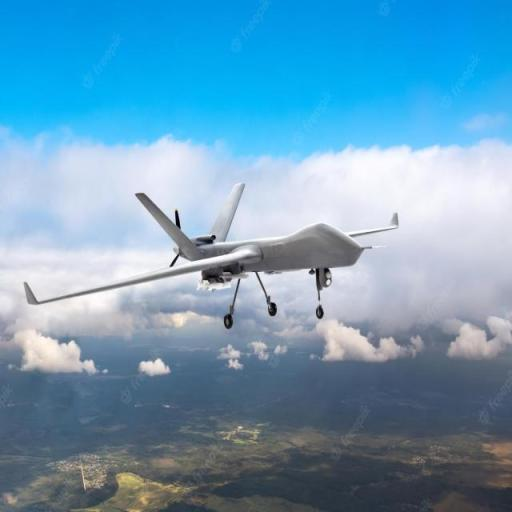uav: (12, 178, 404, 332)
